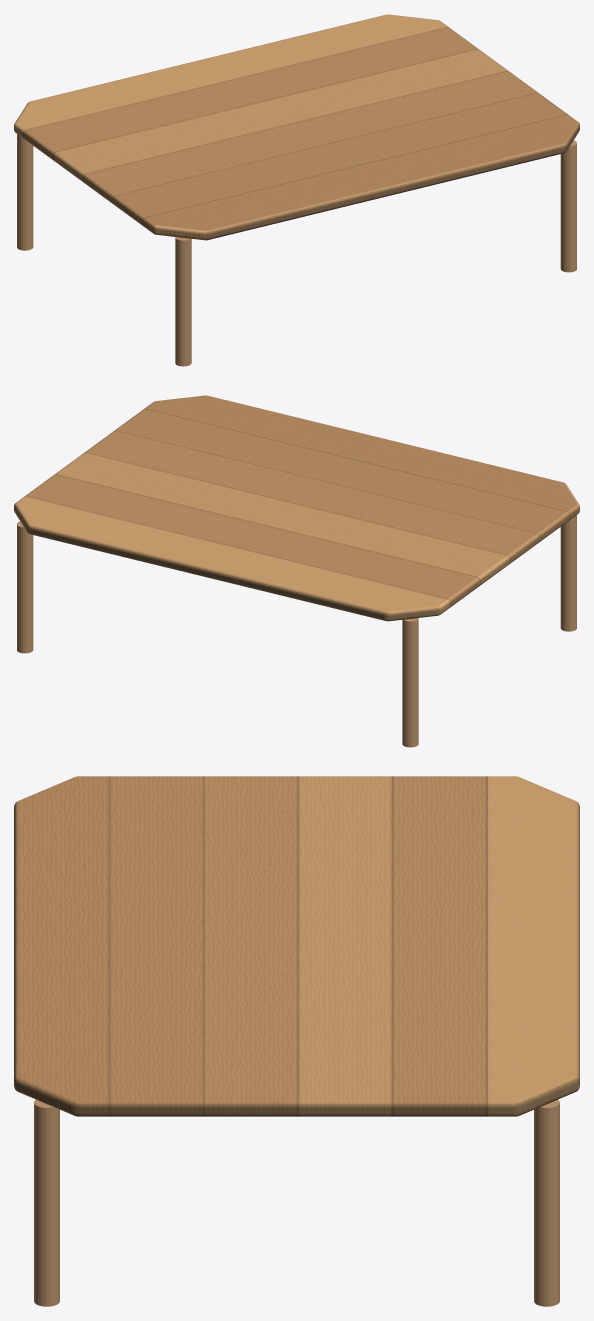
3 views of the same model, one above another, from view 1: azimuth 30°, elevation 25°; view 2: azimuth 150°, elevation 25°; view 3: azimuth 270°, elevation 25° (orthographic). The views are drawn at different scales.
Visible parts, largest first — view 1: HORNEADO_tablero, pata_-1_1, pata_1_1, pata_-1_-1; view 2: HORNEADO_tablero, pata_-1_-1, pata_1_-1, pata_-1_1; view 3: HORNEADO_tablero, pata_1_1, pata_1_-1.
Boxes of the visible parts, <box> form: HORNEADO_tablero: <box>14,14,579,240</box>; pata_-1_1: <box>175,237,191,366</box>; pata_1_1: <box>560,140,576,272</box>; pata_-1_-1: <box>17,134,33,250</box>; HORNEADO_tablero: <box>14,395,579,621</box>; pata_-1_-1: <box>402,618,418,747</box>; pata_1_-1: <box>17,521,33,653</box>; pata_-1_1: <box>560,515,576,631</box>; HORNEADO_tablero: <box>14,776,579,1116</box>; pata_1_1: <box>34,1099,59,1306</box>; pata_1_-1: <box>534,1099,559,1306</box>.
Size of what is drawn, in the model's own units: 33 by 10 by 24.
Materials: 2 (1 with a texture image).
